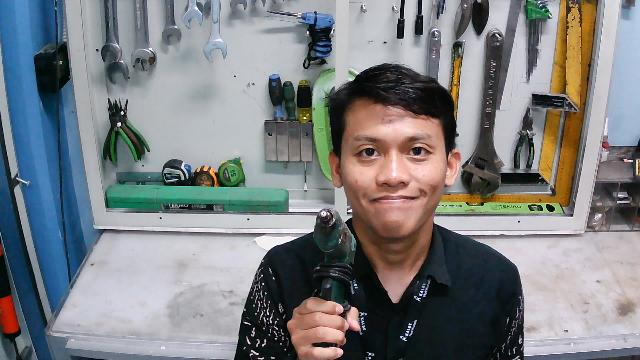gun_lem: (307, 206, 364, 321)
